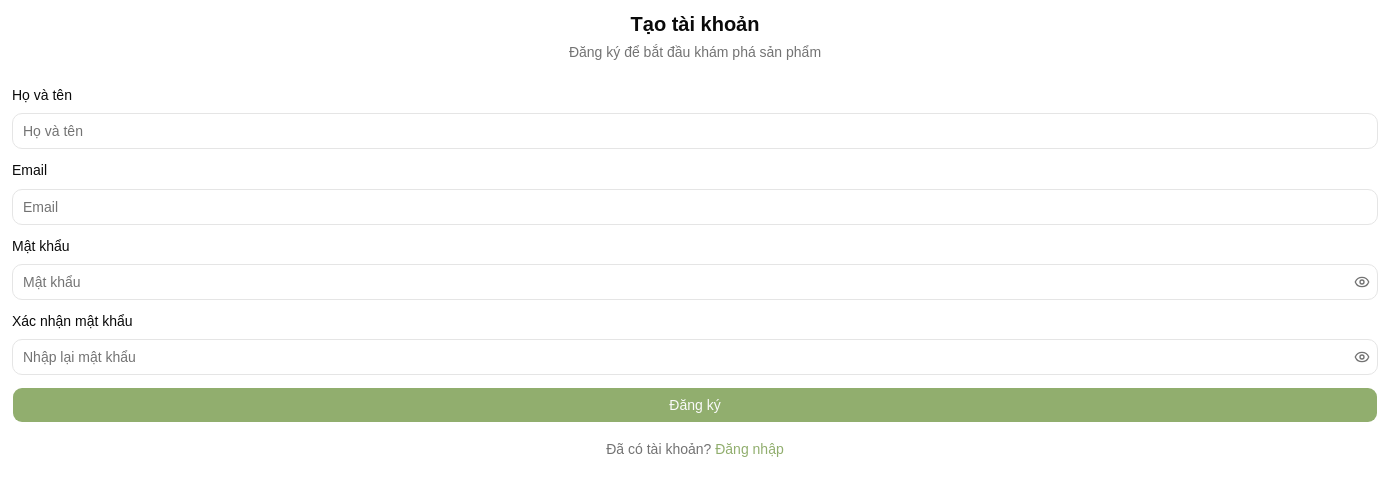
Test: RegisterPage › hiển thị lỗi khi mật khẩu xác nhận không khớp
This screenshot has width=1390, height=502.
In the field labelled "Họ và tên": [695, 131] box [13, 115, 1377, 147], type "Nguyễn An"
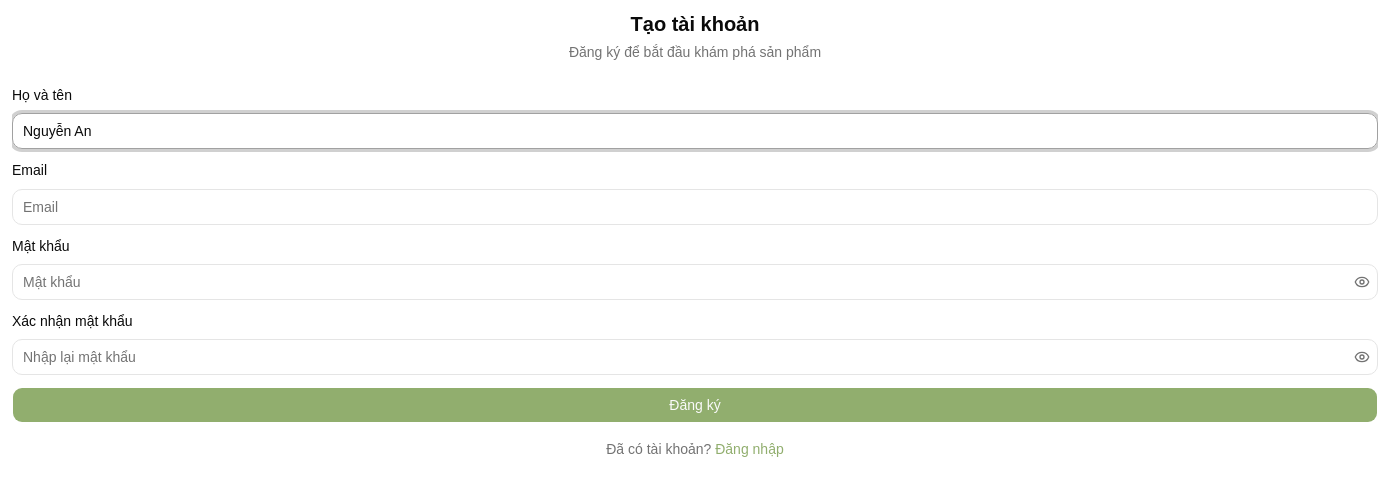
In the field labelled "Email": [695, 206] box [13, 190, 1377, 222], type "an@example.com"
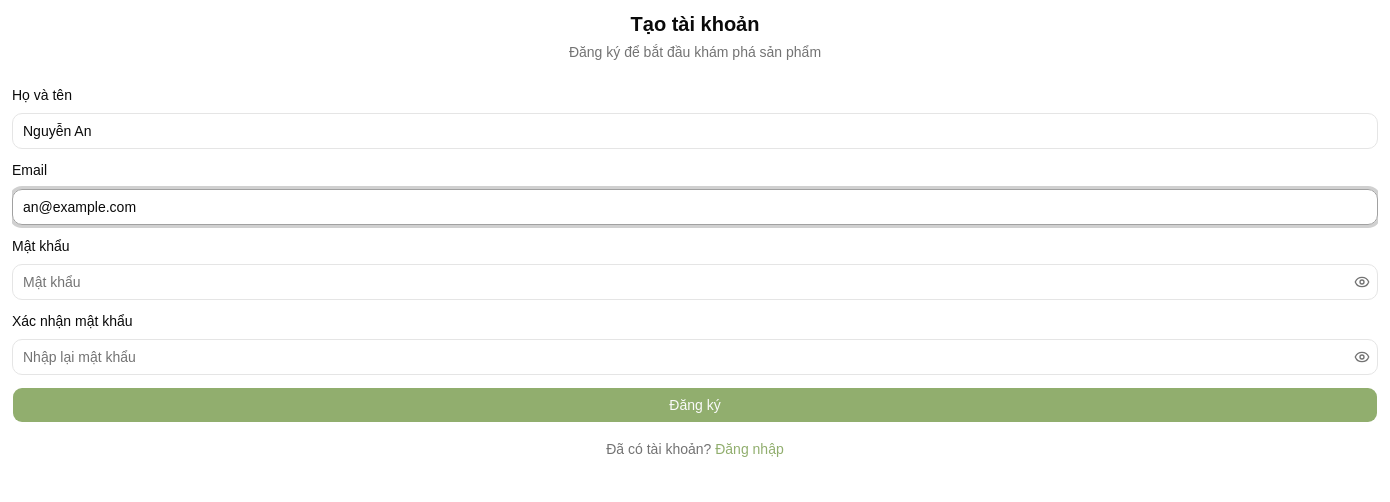
In the password field labelled "Mật khẩu": [681, 282] box [13, 266, 1350, 298], type "password123"
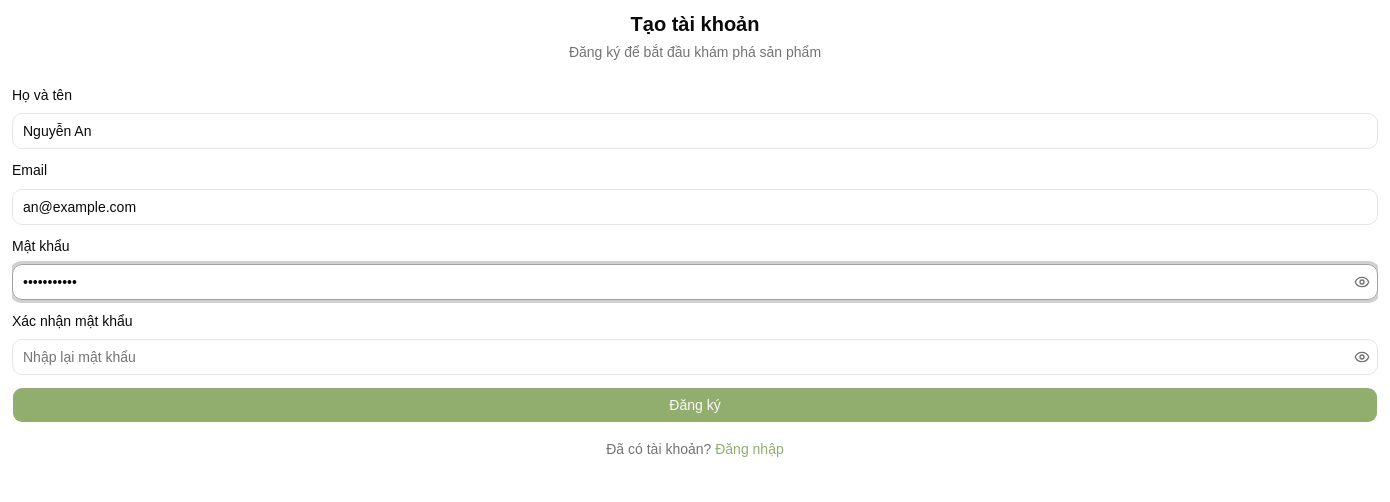
In the password field labelled "Xác nhận mật khẩu": [681, 357] box [13, 341, 1350, 373], type "password321"
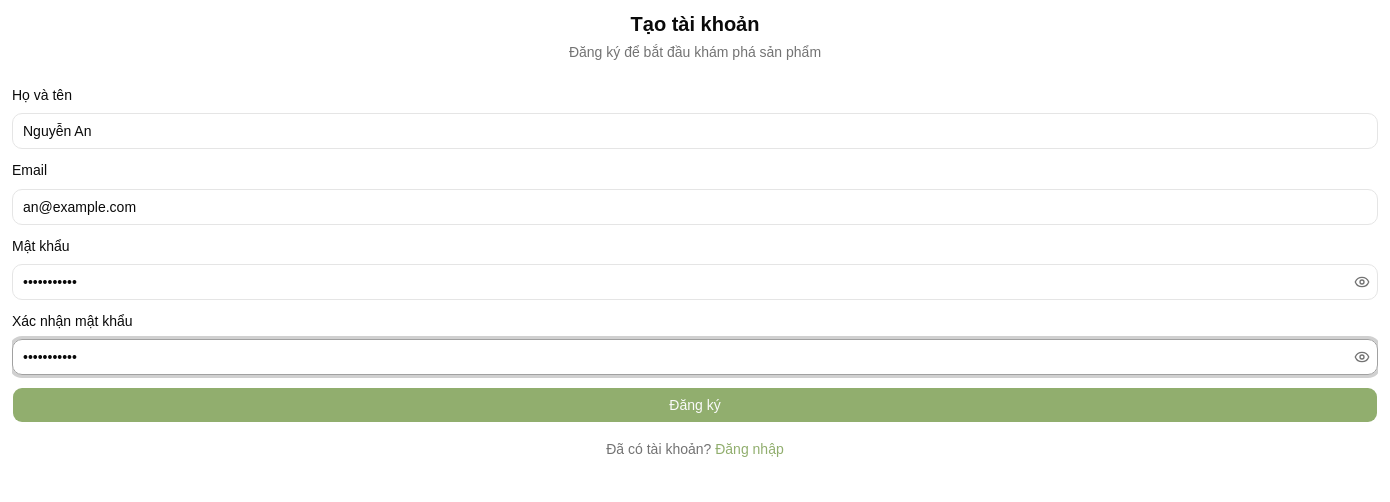
Click the button "Đăng ký": [695, 405] box [12, 387, 1378, 423]
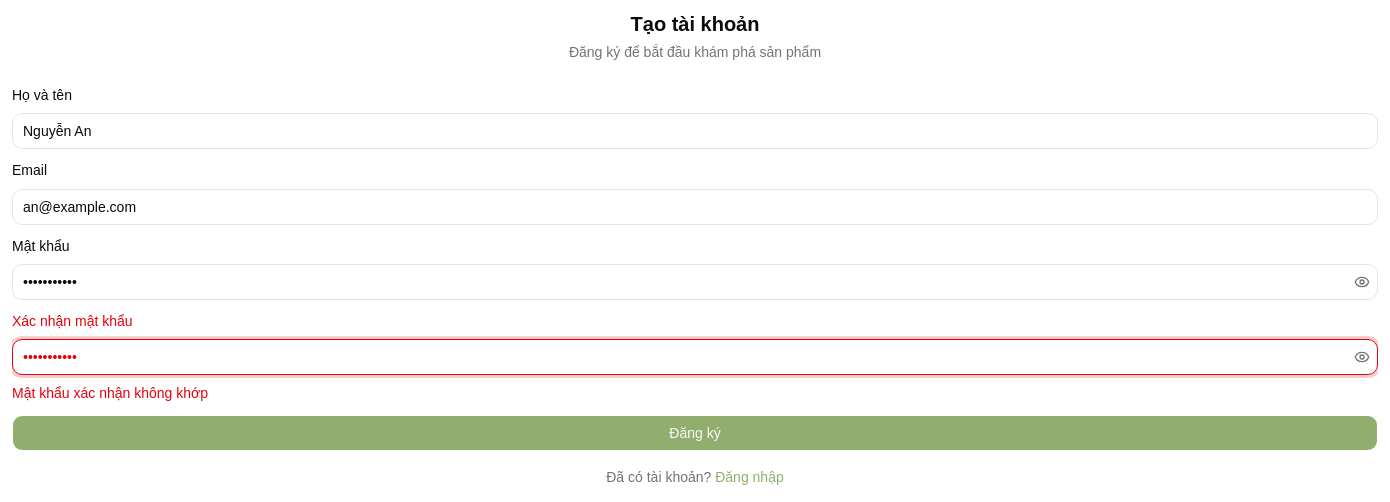
Now the text "Mật khẩu xác nhận không khớp" is shown, box [12, 385, 208, 401]
